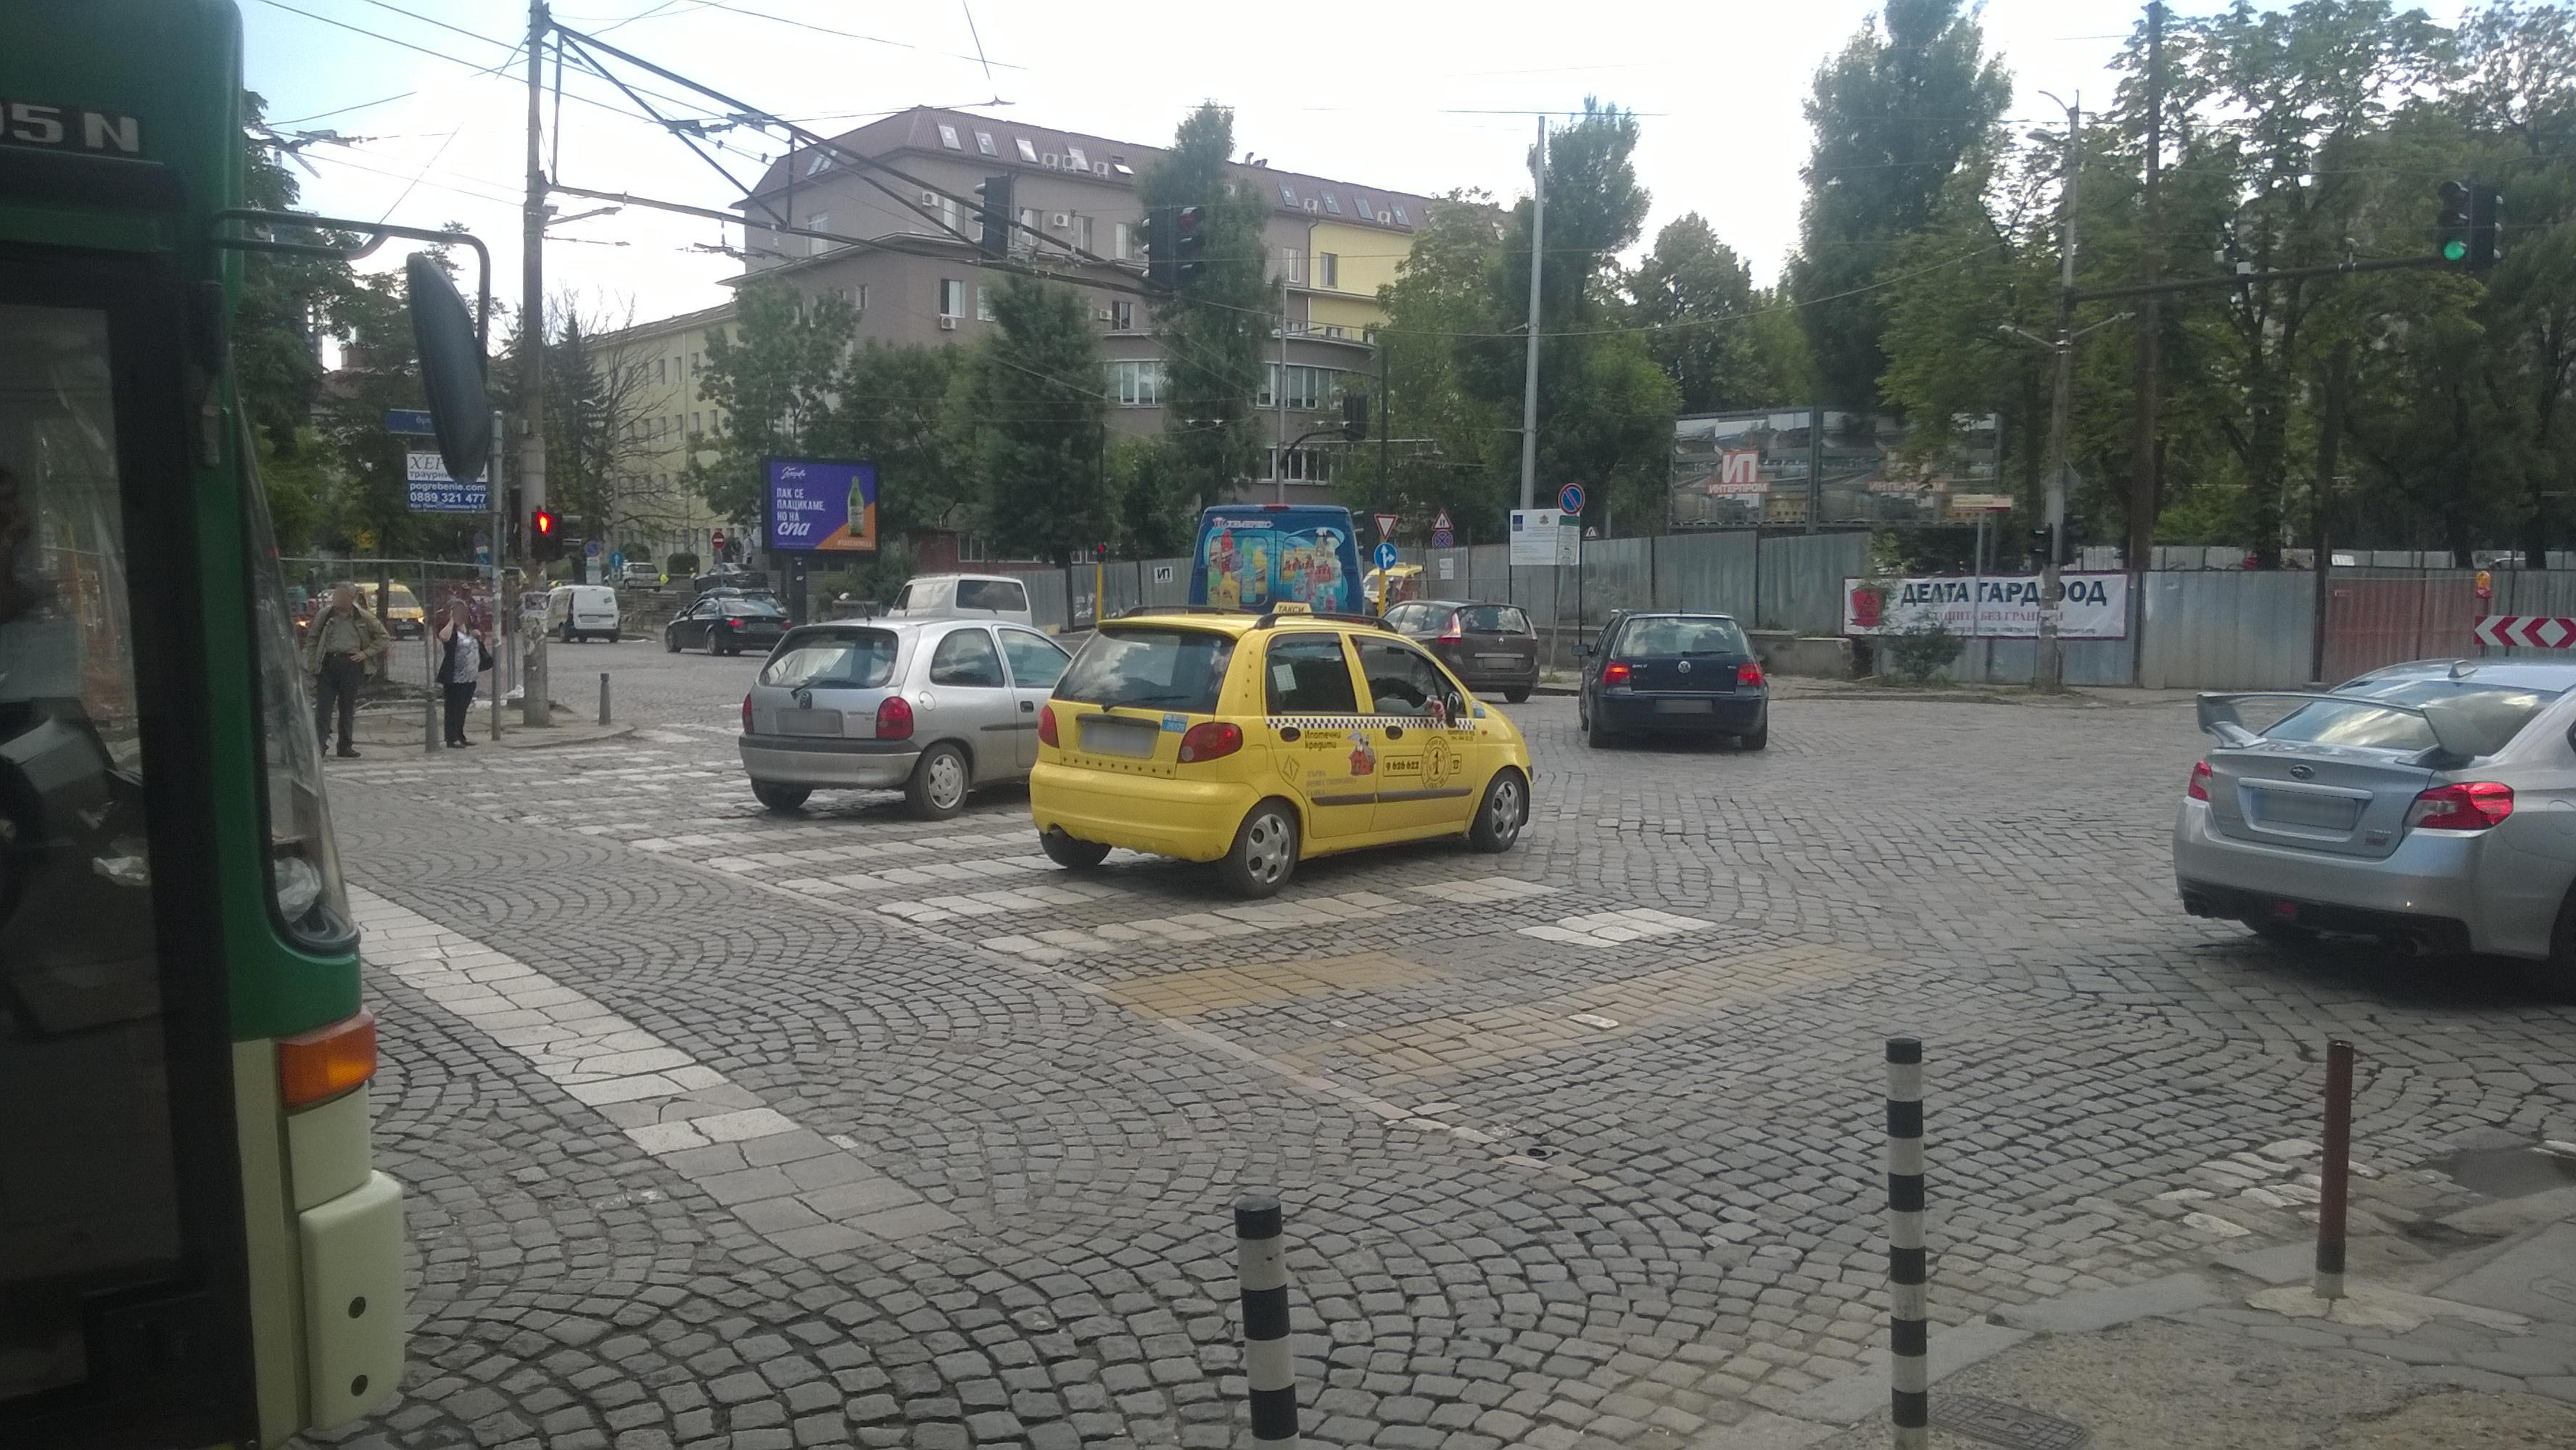vinyl banner: (1831, 552, 2141, 654)
